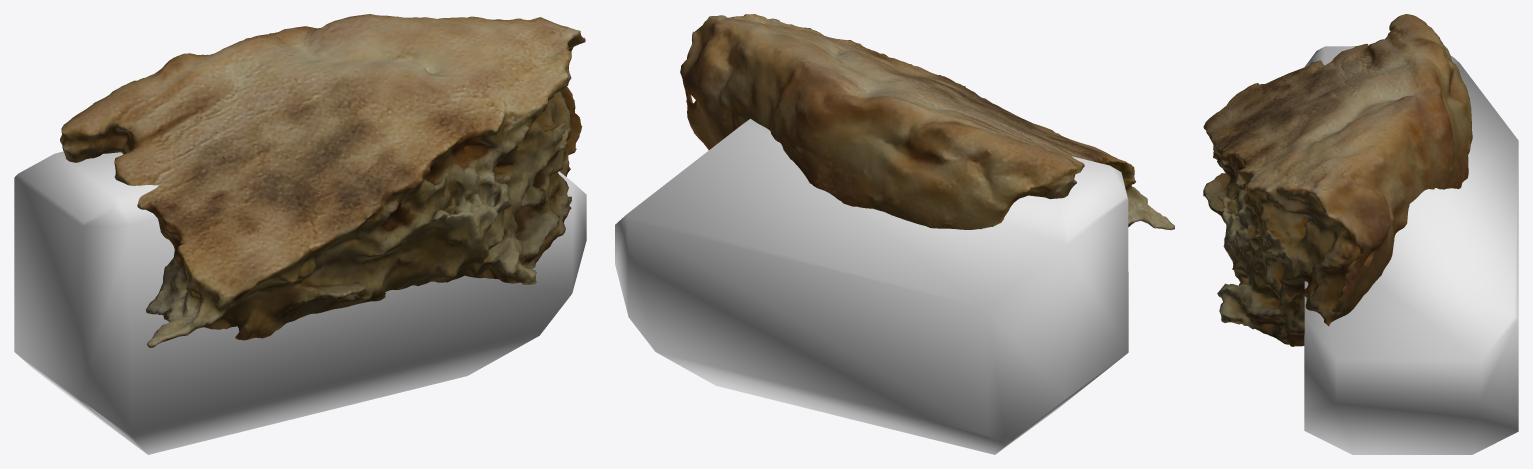
File: SM_Bread_B.fbx
3 views of the same model, side by side, from view 1: azimuth 30°, elevation 25°; view 2: azimuth 150°, elevation 25°; view 3: azimuth 270°, elevation 25° (orthographic). The views are drawn at different scales.
Visible parts, largest first — view 1: SM_Bread_B, SM_Bread_B_ConvexHulls; view 2: SM_Bread_B_ConvexHulls, SM_Bread_B; view 3: SM_Bread_B, SM_Bread_B_ConvexHulls.
Part boxes in pixels (<box>): SM_Bread_B: <box>60,14,585,347</box>; SM_Bread_B_ConvexHulls: <box>14,151,586,454</box>; SM_Bread_B_ConvexHulls: <box>615,119,1128,454</box>; SM_Bread_B: <box>680,14,1174,229</box>; SM_Bread_B: <box>1203,14,1472,346</box>; SM_Bread_B_ConvexHulls: <box>1304,46,1518,454</box>.
Bounding box in the file's own units: 0.1299 × 0.0874 × 0.0789.
